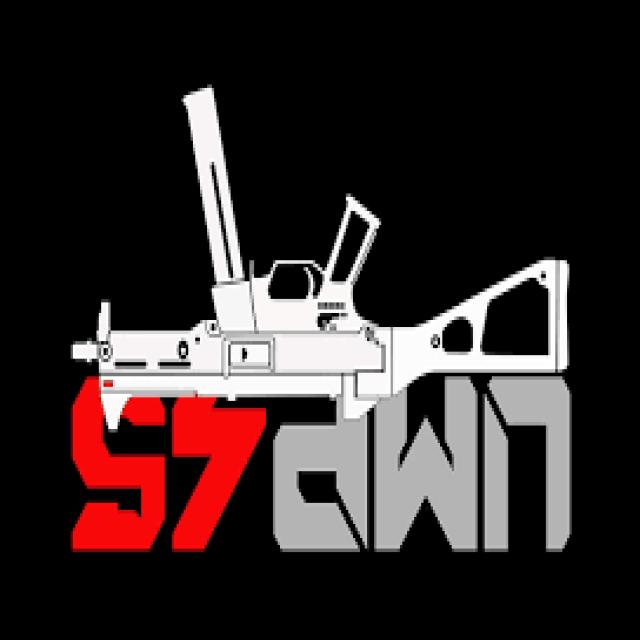Gun: (73, 60, 598, 426)
